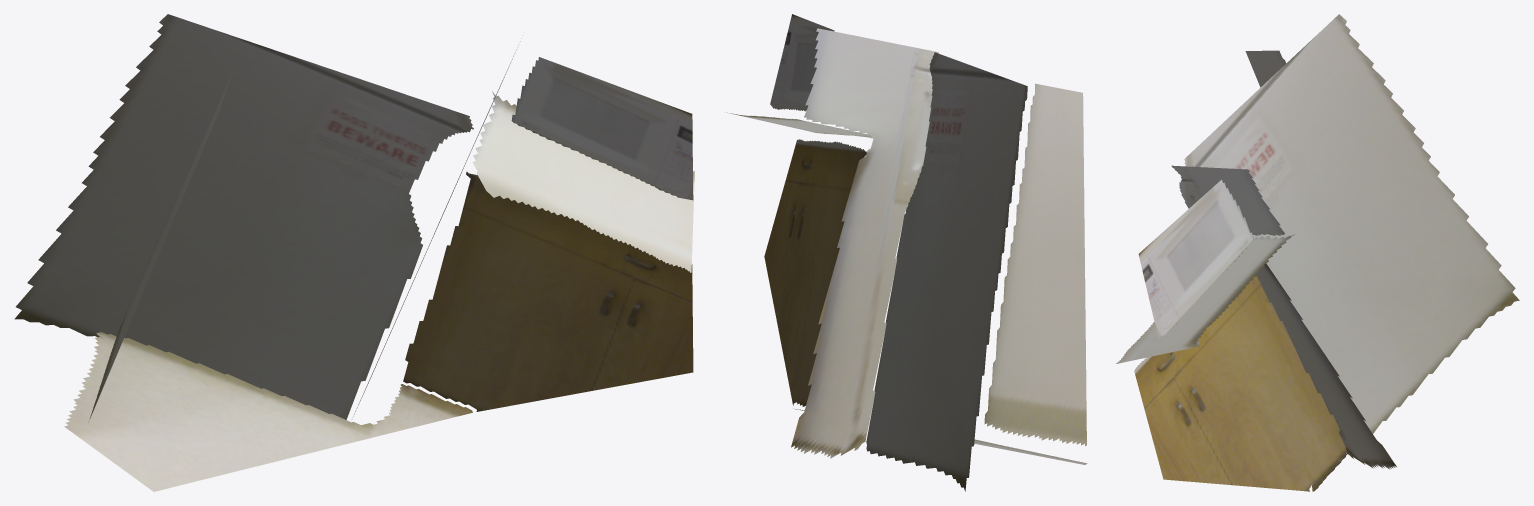
The model's file is 516_d2_depth_predplane_pred_model.glb.
3 renders of one model, left to right at view 1: azimuth 30°, elevation 25°; view 2: azimuth 150°, elevation 25°; view 3: azimuth 270°, elevation 25°, orthographic. The views are drawn at different scales.
Size of the model in its own units: 1.7 by 1.44 by 1.41.
